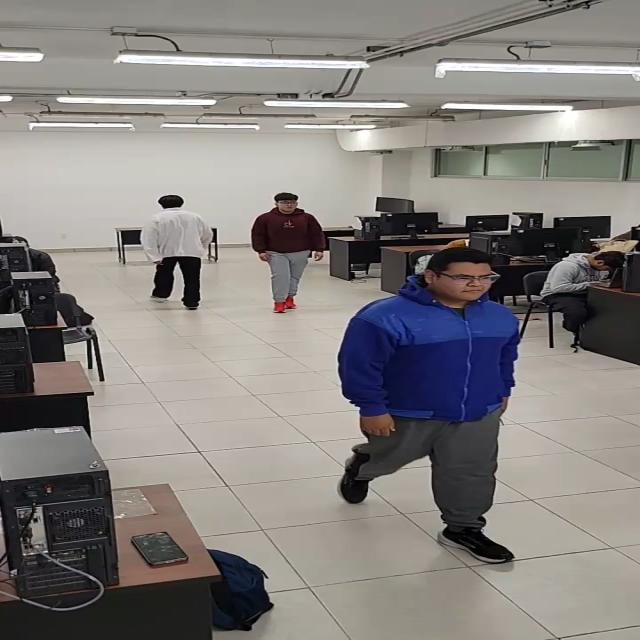Persona: (349, 245, 531, 565), (253, 191, 322, 320), (143, 195, 212, 315)
